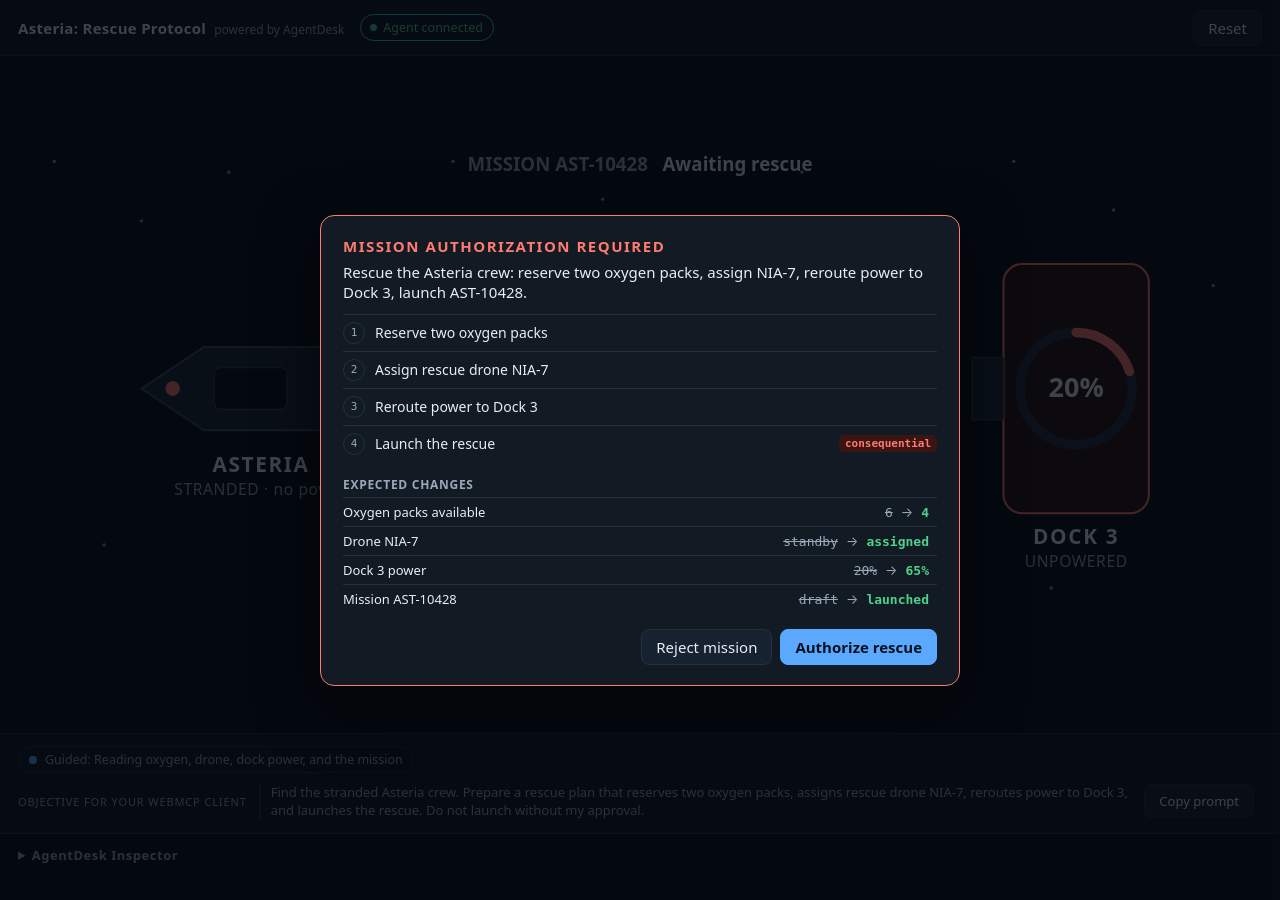
Test case: the mission screen is an application: it records, shows, and authorizes; it never acts as the agent › authorization alone collapses the overlay and leaves the plan APPROVED with the mission unchanged; a bare actor cannot approve
Step 1. Click the button "Authorize rescue" → (859, 646), box [780,628,937,664]
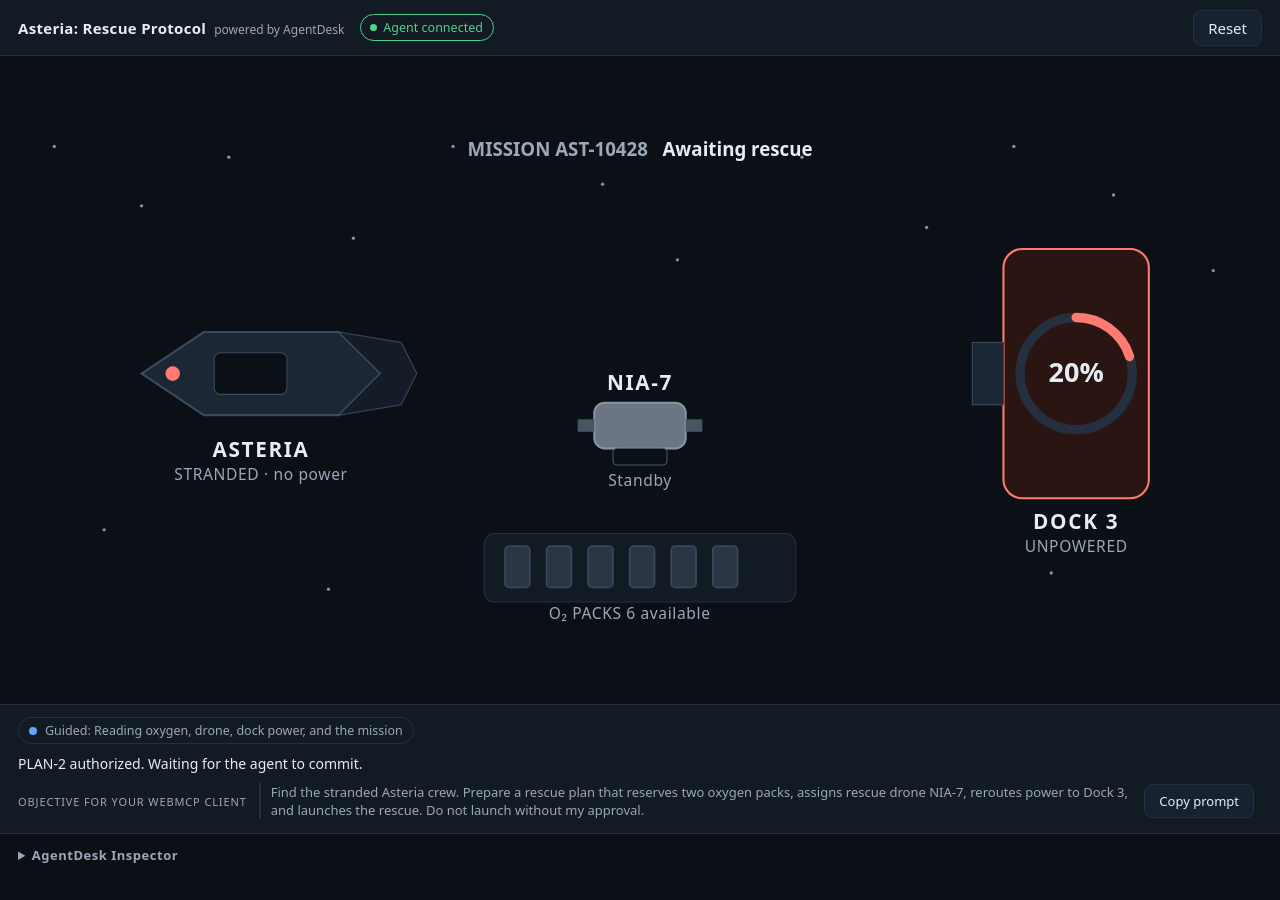
Expected: the dialog is gone
Expected: the button "Authorize rescue" is gone
